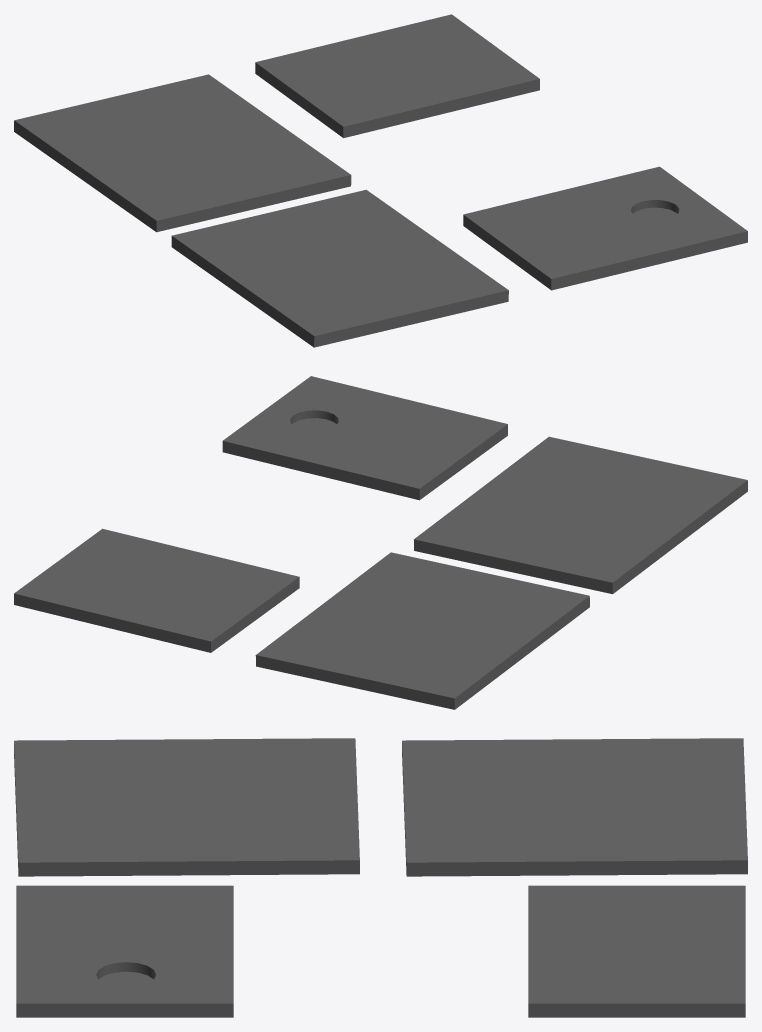
Rendered from floor_8.fbx.
The picture shows the model from 3 angles, top to bottom: view 1: azimuth 30°, elevation 25°; view 2: azimuth 150°, elevation 25°; view 3: azimuth 270°, elevation 25°; orthographic projection. The views are drawn at different scales.
Parts seen in each view (by area): view 1: m8; view 2: m8; view 3: m8.
Boxes of the visible parts, bbox=[...] form: m8: bbox=[14, 14, 747, 347]; m8: bbox=[14, 376, 747, 709]; m8: bbox=[14, 738, 747, 1017].
Size of the model in its own units: 4018 by 129 by 4729.
Materials: 1 (1 with a texture image).
